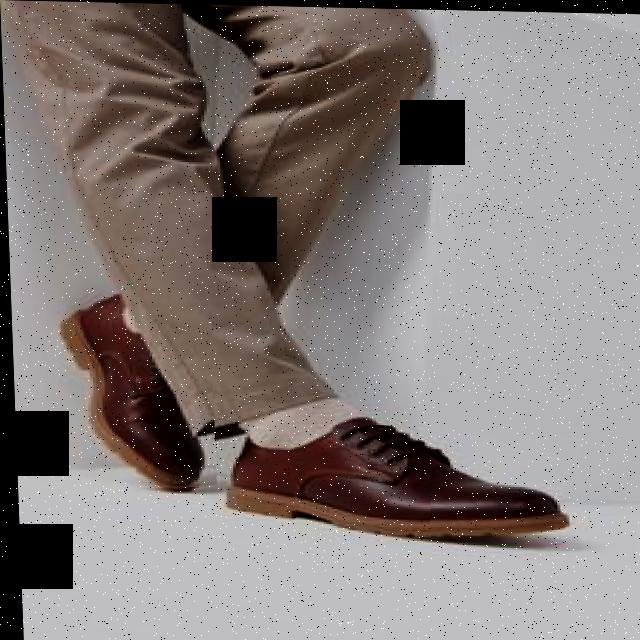shoe: (222, 422, 579, 542), (53, 288, 214, 492)
